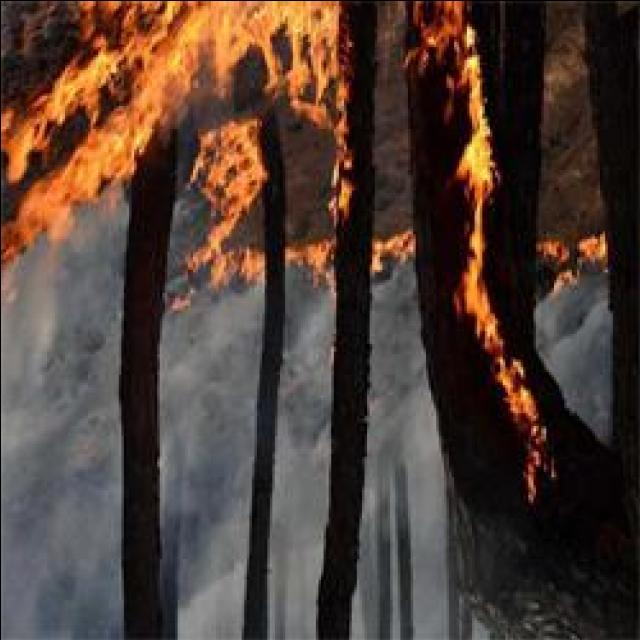fire: (159, 0, 233, 63), (460, 72, 494, 198), (254, 0, 326, 51), (200, 126, 255, 188), (141, 51, 175, 110), (90, 126, 130, 170), (62, 66, 104, 98)
smoke: (0, 267, 53, 483), (540, 276, 612, 413)
